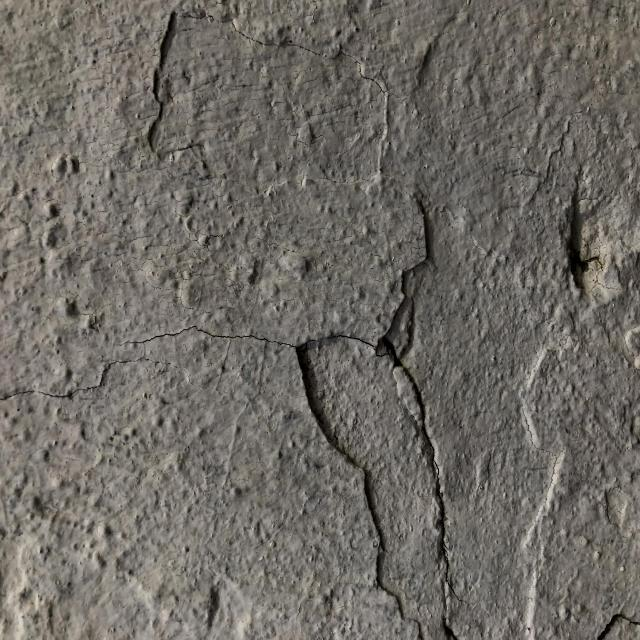SurfaceCrack: (240, 323, 493, 639)
